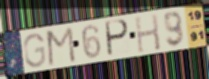6: (81, 23, 103, 60)
9: (162, 10, 186, 49)
G: (22, 32, 48, 69)
H: (133, 12, 163, 54)
M: (45, 25, 77, 68)
P: (105, 19, 131, 58)
